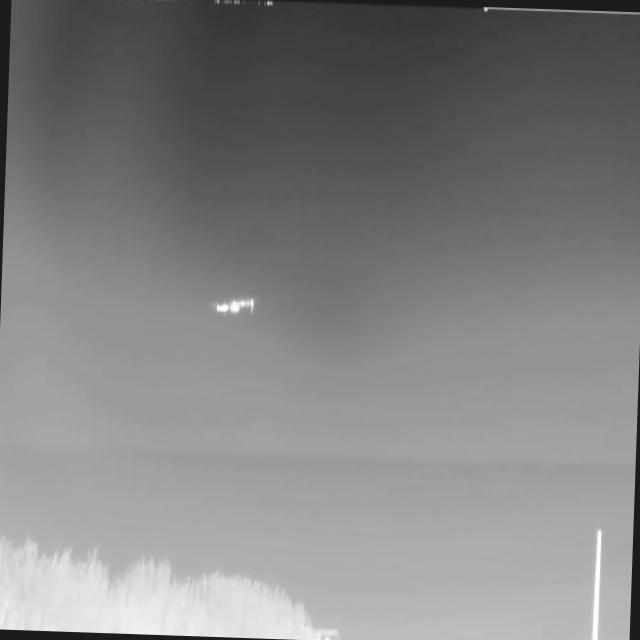DRONE: (201, 286, 264, 326)
